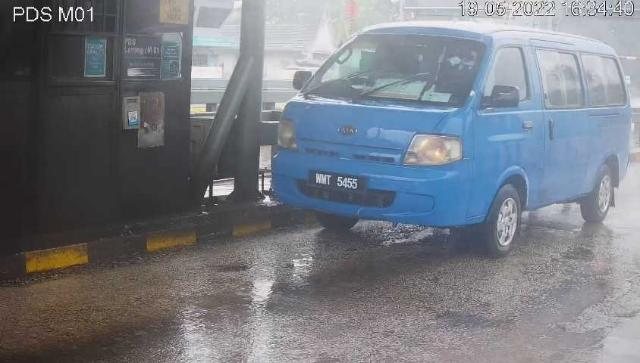License_Plate: (313, 171, 368, 196)
van: (272, 22, 632, 258)
